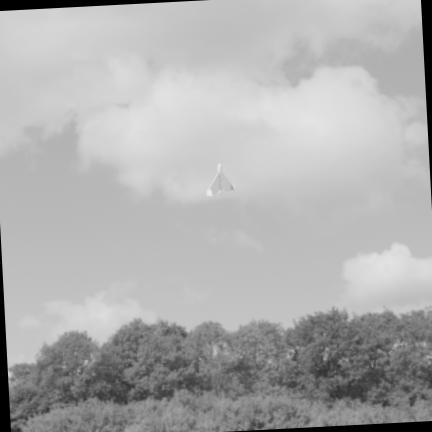Shahed: (207, 164, 234, 195)
